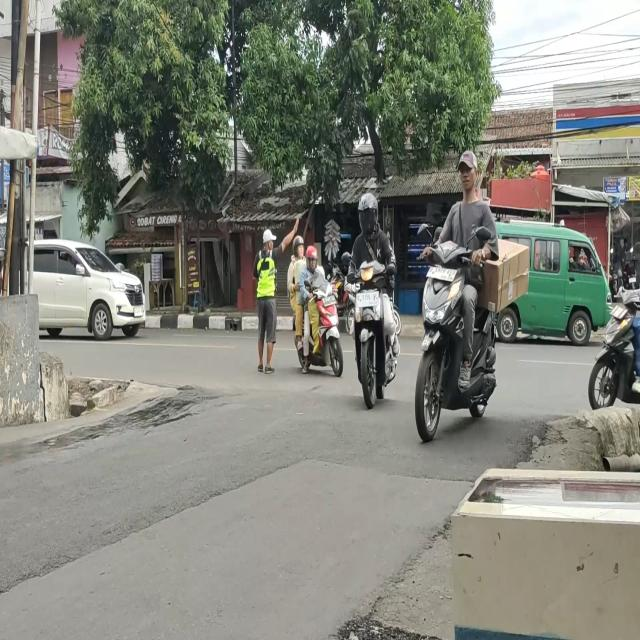helmet: (358, 192, 380, 234), (304, 247, 320, 270), (292, 238, 304, 260)
no-helmet: (456, 149, 484, 197)
